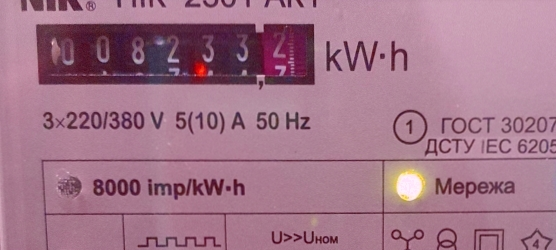0: (57, 34, 77, 66), (93, 33, 111, 64)
2: (162, 32, 182, 65), (270, 28, 287, 60)
3: (198, 32, 216, 63), (234, 30, 251, 62)
8: (128, 33, 146, 65)
screen: (25, 11, 326, 94)
